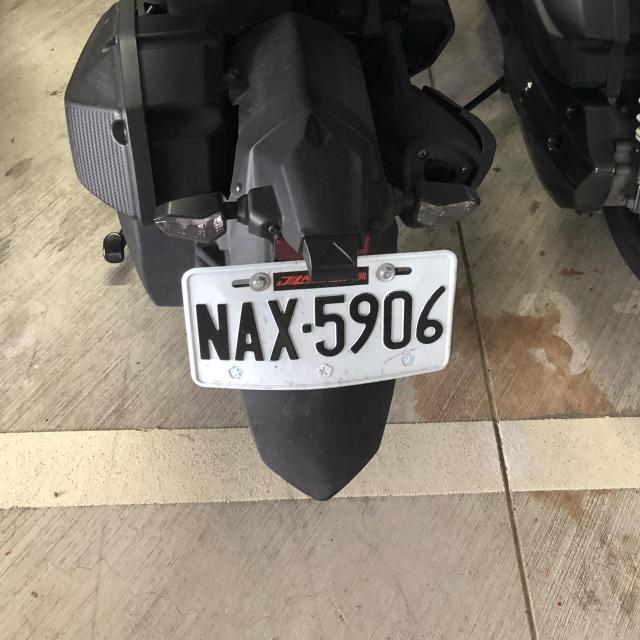W: (178, 249, 464, 397)
